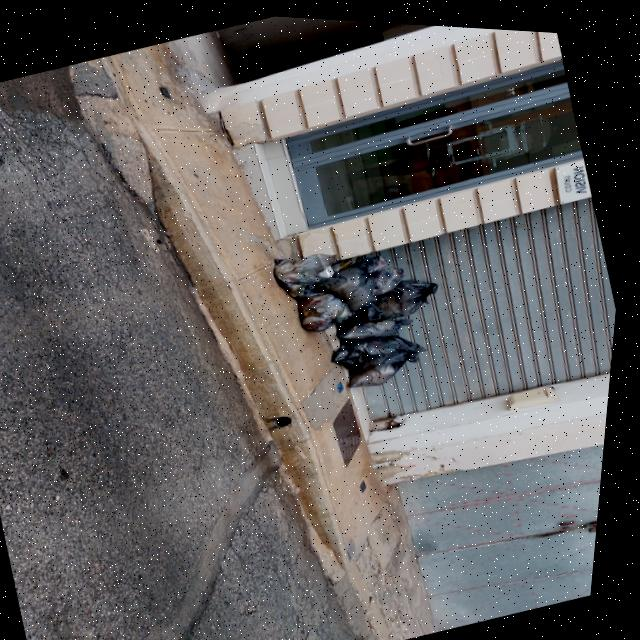Mixed Waste -Black Bag-: (332, 315, 434, 379), (270, 234, 357, 305), (314, 247, 387, 318), (348, 337, 440, 392), (375, 265, 449, 320), (340, 301, 422, 348), (298, 279, 363, 334), (356, 241, 415, 298), (338, 291, 392, 330)
